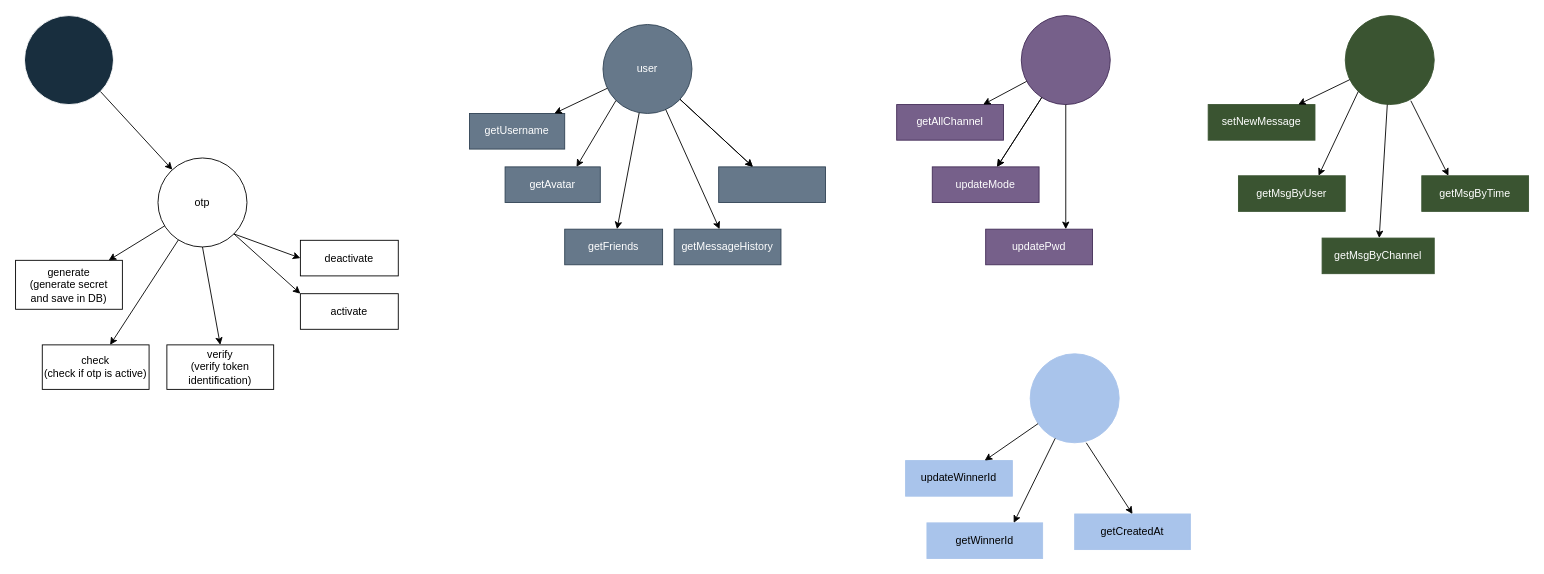
This 1544x574 diagram has some shape labels left out. Each missing label, with the box of its shape:
auth: (24, 15, 113, 105)
Channel: (1020, 15, 1110, 105)
Game: (1029, 353, 1119, 443)
getGameHistory: (718, 166, 825, 202)
Message: (1344, 15, 1434, 105)
